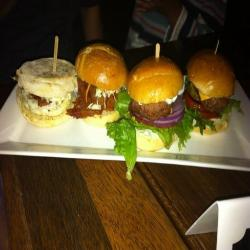burger: (71, 39, 128, 137), (125, 51, 191, 128), (15, 53, 80, 128), (181, 49, 237, 129)
salad: (111, 122, 134, 157)
